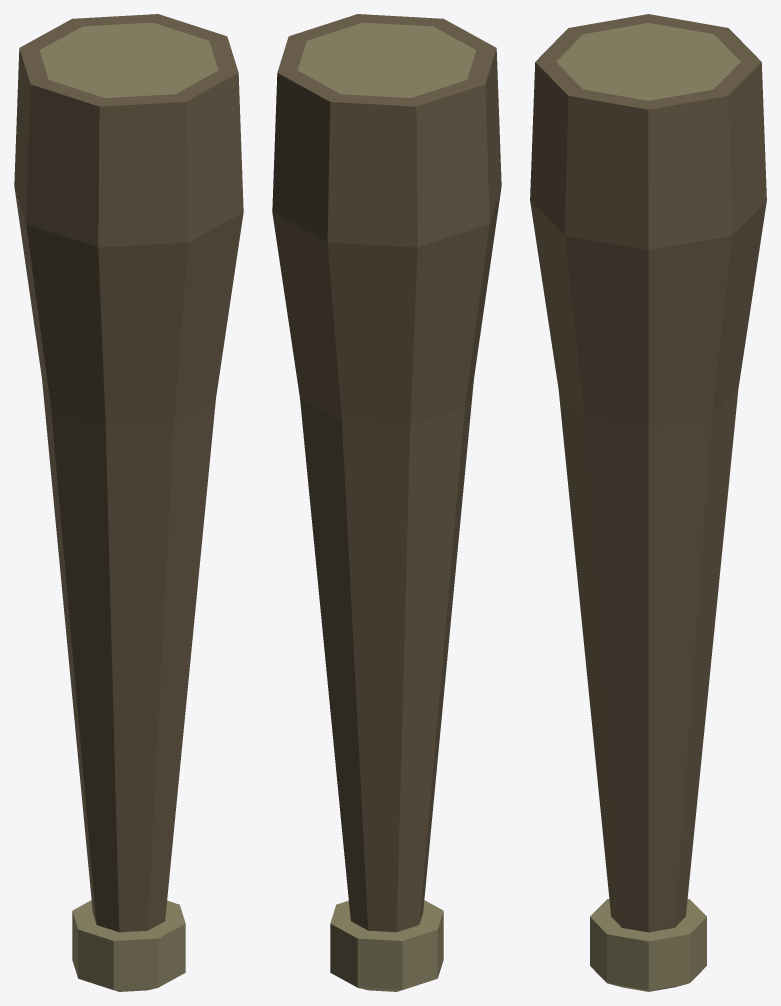
Rendered from Bat.fbx.
3 views of the same model, side by side, from view 1: azimuth 30°, elevation 25°; view 2: azimuth 150°, elevation 25°; view 3: azimuth 270°, elevation 25° (orthographic).
Parts seen in each view (by area): view 1: Cylinder; view 2: Cylinder; view 3: Cylinder.
Part boxes in pixels (left/top/right/bottom): Cylinder: left=14, top=14, right=243, bottom=991; Cylinder: left=272, top=14, right=501, bottom=991; Cylinder: left=530, top=14, right=766, bottom=991.
Bounding box in the file's own units: 0.5301 × 2.26 × 0.5301.
